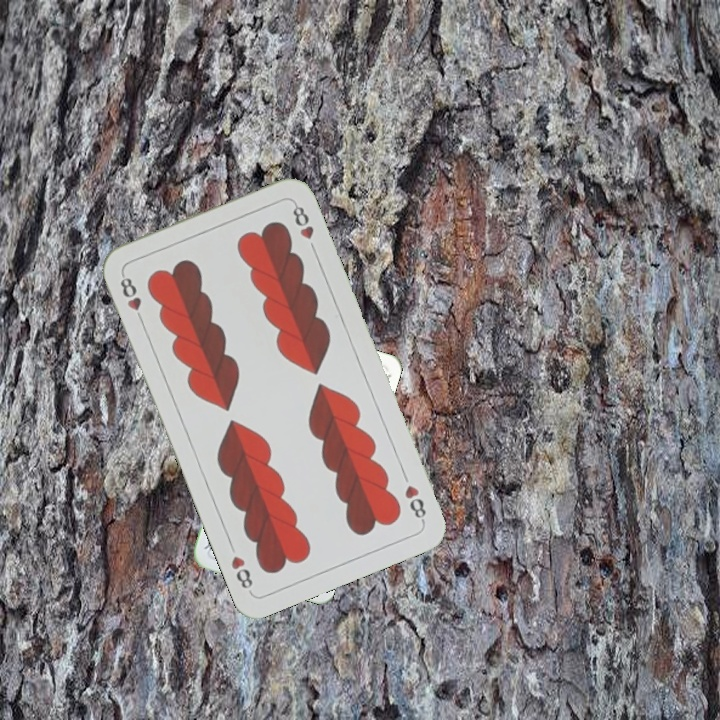H8: (116, 269, 147, 326), (400, 480, 429, 525)
